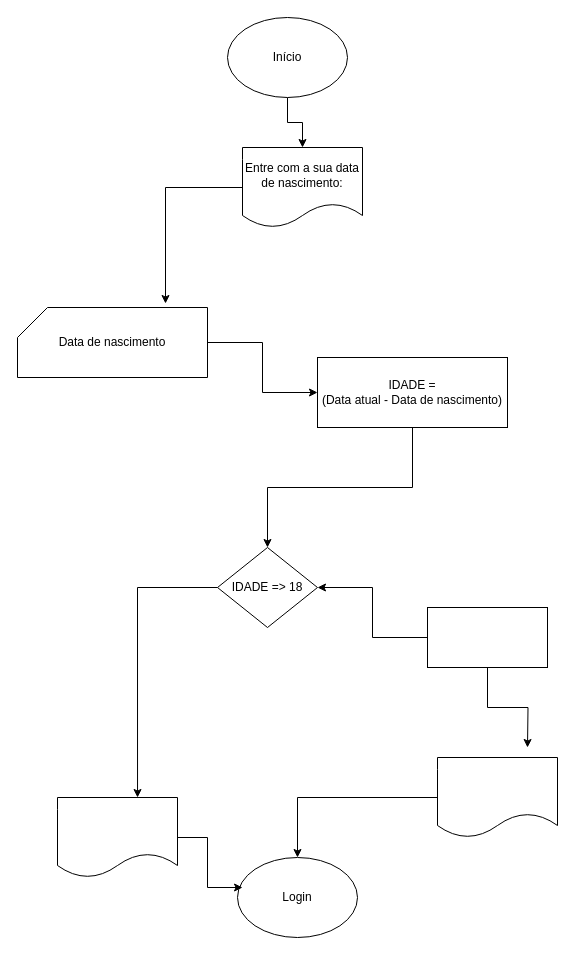
Some shapes in this 575 by 955 pixel diagram are drawn without their labels. Each missing label, with the centre of its shape:
"(menor que 18 anos)" belongs at point (497, 797).
"Realizar Login" belongs at point (117, 837).
"Voltar à página inicial" belongs at point (487, 637).
